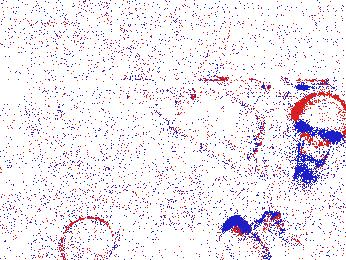flame jellyfish: (292, 93, 346, 188), (218, 210, 301, 260), (59, 216, 116, 260)
